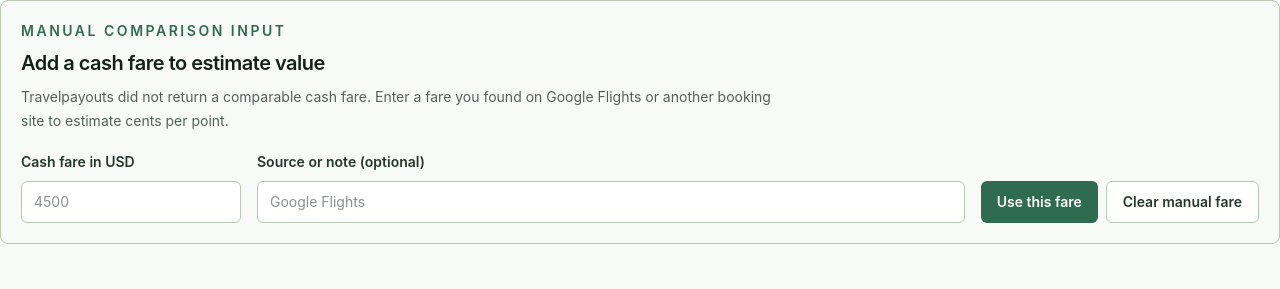
Test: ManualCashFareInput › rejects invalid fare -4
Type "-4" into the field labelled "Cash fare in USD" at (131, 202), box top-left (21, 181), bottom-right (241, 223)
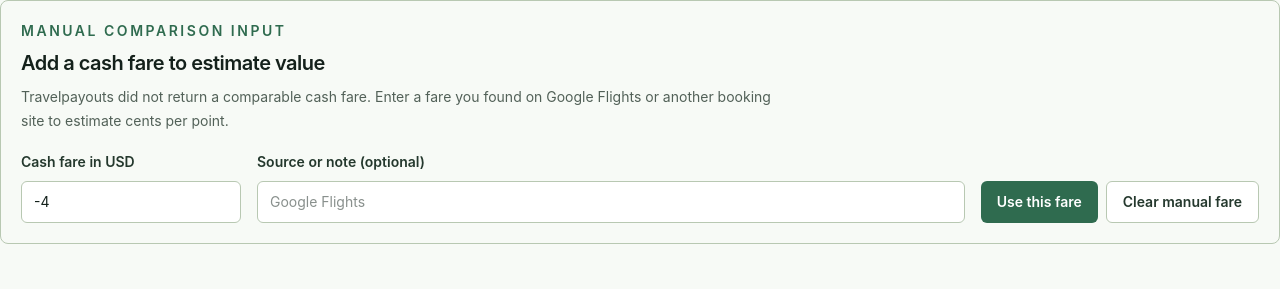
Click the button "Use this fare" at (1039, 202), box top-left (981, 181), bottom-right (1098, 223)
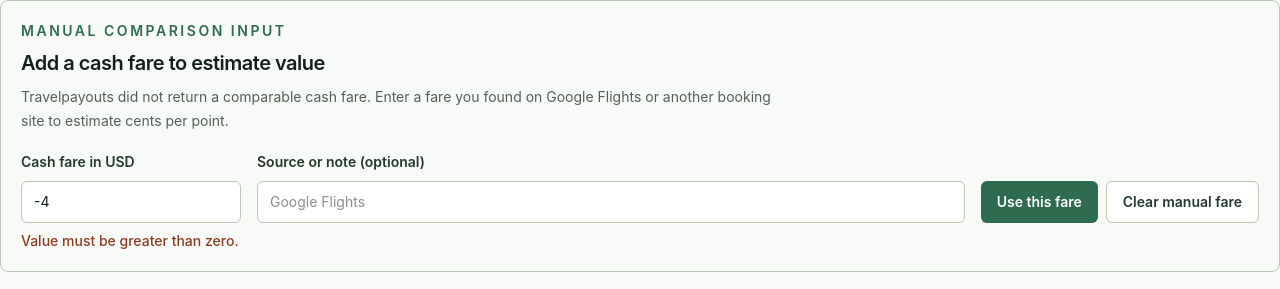
Result: the message "Value must be greater than zero." is shown at top-left (21, 232), bottom-right (239, 249)
